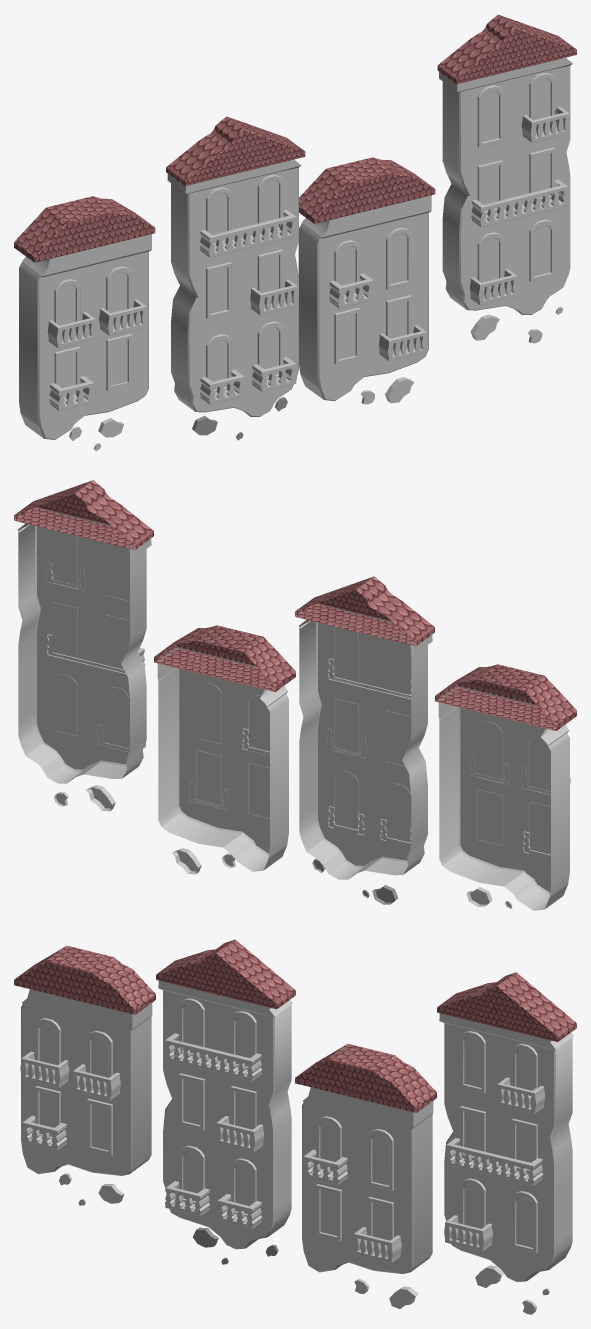
Rendered from LongHouse001.FBX.
3 renders of one model, top to bottom at view 1: azimuth 30°, elevation 25°; view 2: azimuth 150°, elevation 25°; view 3: azimuth 330°, elevation 25°, orthographic.
Parts seen in each view (by area): view 1: House001, House, ShortBuilding003, ShortBuilding002; view 2: House001, House, ShortBuilding003, ShortBuilding002; view 3: House001, House, ShortBuilding003, ShortBuilding002.
Part boxes in pixels (bbox=[...]): House001: bbox=[437, 14, 576, 314]; House: bbox=[166, 116, 305, 416]; ShortBuilding003: bbox=[14, 196, 155, 439]; ShortBuilding002: bbox=[298, 157, 435, 401]; House001: bbox=[14, 480, 153, 783]; House: bbox=[295, 576, 434, 879]; ShortBuilding003: bbox=[435, 664, 576, 910]; ShortBuilding002: bbox=[154, 625, 295, 871]; House001: bbox=[437, 972, 576, 1282]; House: bbox=[156, 939, 295, 1249]; ShortBuilding003: bbox=[14, 945, 155, 1175]; ShortBuilding002: bbox=[295, 1044, 436, 1273].
Bounding box in the file's own units: 3392 × 2126 × 357.
